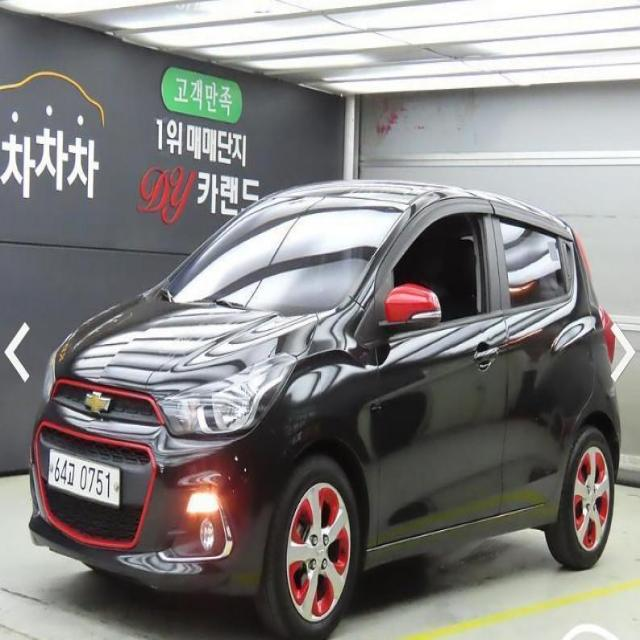car: (25, 166, 624, 640)
illegal_plate: (47, 448, 121, 514)
